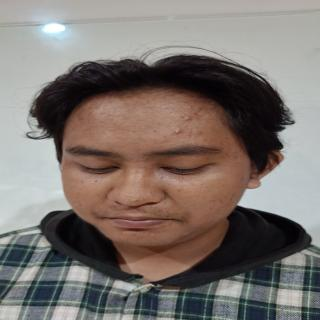Sedih: (55, 82, 257, 251)
